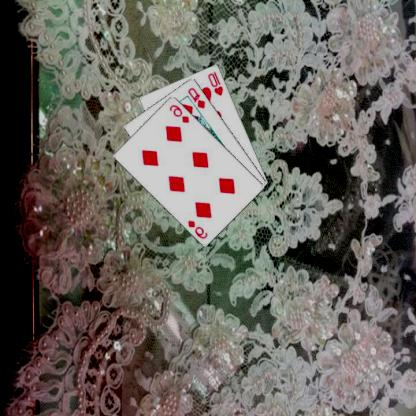10H: (207, 69, 226, 96)
6D: (169, 102, 192, 124), (188, 218, 210, 240)
QD: (187, 85, 208, 110)
